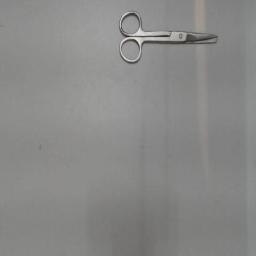Dressing Scissors: (112, 4, 222, 72)
